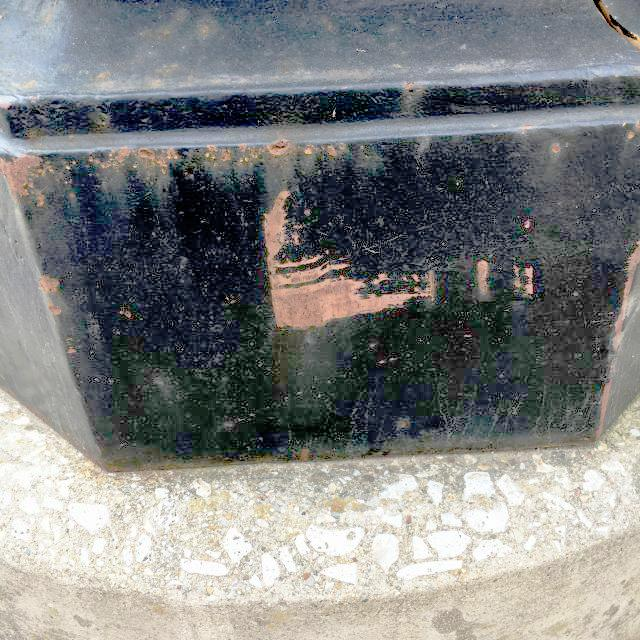Corrosion: (264, 191, 415, 330), (614, 258, 635, 352), (0, 155, 45, 198), (115, 136, 160, 166), (238, 138, 297, 158), (596, 378, 613, 440), (88, 148, 129, 170), (184, 143, 231, 160), (499, 260, 518, 294), (414, 272, 435, 302), (520, 265, 535, 294), (478, 260, 490, 294), (38, 275, 59, 294), (298, 137, 317, 154), (625, 124, 640, 144), (372, 274, 389, 286), (550, 142, 563, 156), (324, 144, 337, 156), (66, 339, 76, 354), (523, 218, 533, 230), (48, 308, 60, 317)
